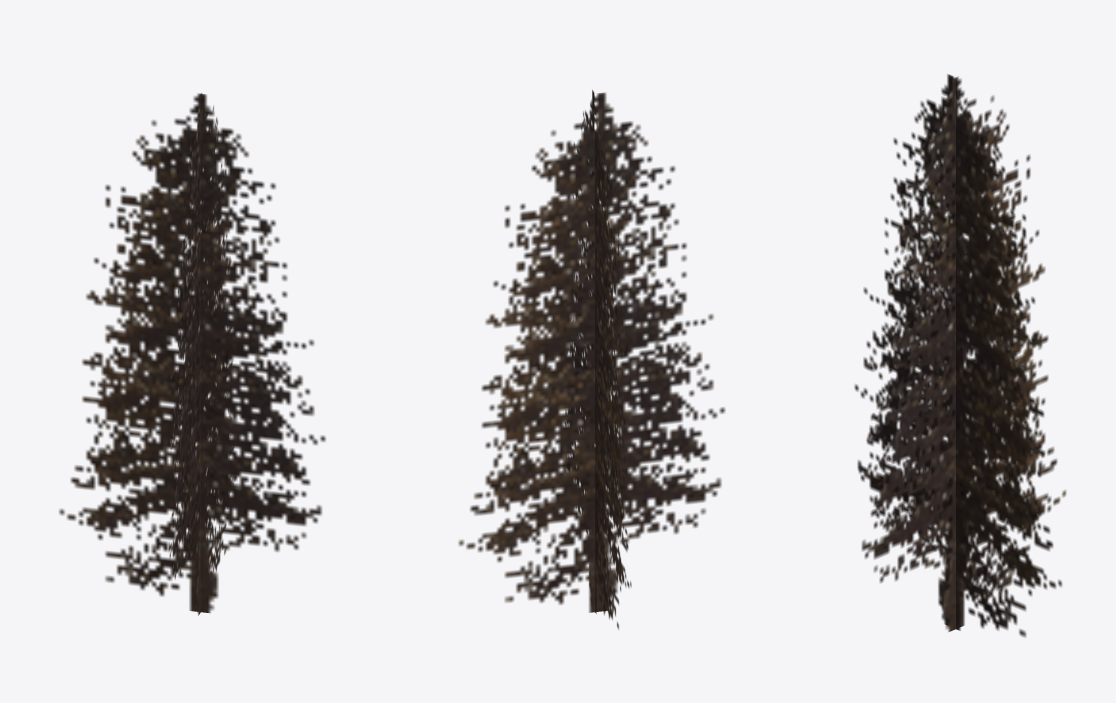
The model's file is tree058.glb.
3 renders of one model, left to right at view 1: azimuth 30°, elevation 25°; view 2: azimuth 150°, elevation 25°; view 3: azimuth 270°, elevation 25°, orthographic. The views are drawn at different scales.
Parts seen in each view (by area): view 1: tree058; view 2: tree058; view 3: tree058.
Boxes of the visible parts, x1,y1,x2,y2 form: tree058: [59, 93, 325, 615]; tree058: [458, 90, 725, 629]; tree058: [854, 74, 1066, 637].
Bounding box in the file's own units: 2.35 × 5.01 × 2.35.
1 material, 1 textured.
